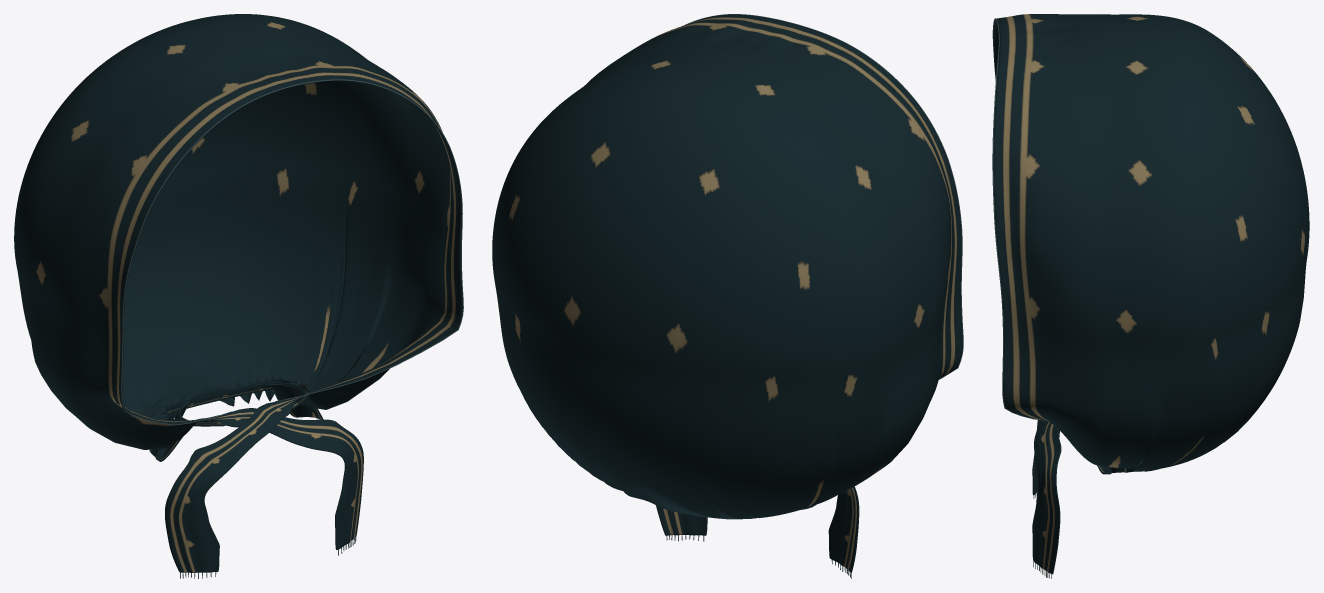
File: Masculine-middle-part-tshirt-pashmina250-headgear.glb
3 views of the same model, side by side, from view 1: azimuth 30°, elevation 25°; view 2: azimuth 150°, elevation 25°; view 3: azimuth 270°, elevation 25° (orthographic). The views are drawn at different scales.
Visible parts, largest first — view 1: 226 headgear / Headwear / continuous woven pashmina239, 226 headgear / Headwear / face edge239; view 2: 226 headgear / Headwear / continuous woven pashmina239, 226 headgear / Headwear / face edge239; view 3: 226 headgear / Headwear / continuous woven pashmina239, 226 headgear / Headwear / face edge239.
Boxes of the visible parts, left/top/right/bottom form: 226 headgear / Headwear / continuous woven pashmina239: left=14, top=14, right=462, bottom=572; 226 headgear / Headwear / face edge239: left=121, top=79, right=463, bottom=425; 226 headgear / Headwear / continuous woven pashmina239: left=492, top=14, right=962, bottom=572; 226 headgear / Headwear / face edge239: left=684, top=14, right=963, bottom=379; 226 headgear / Headwear / continuous woven pashmina239: left=993, top=14, right=1309, bottom=574; 226 headgear / Headwear / face edge239: left=992, top=18, right=1038, bottom=419.
Bounding box in the file's own units: 1.1 × 1.39 × 0.7949.
Materials: 3 (1 with a texture image).
